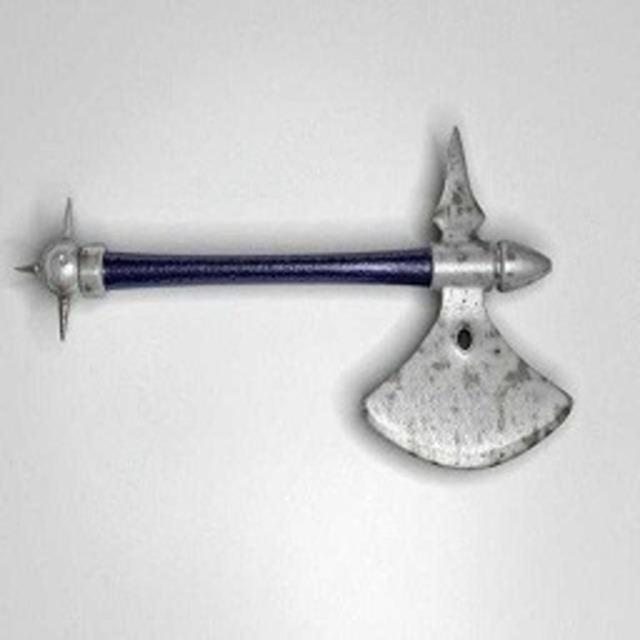ax: (7, 110, 586, 490)
